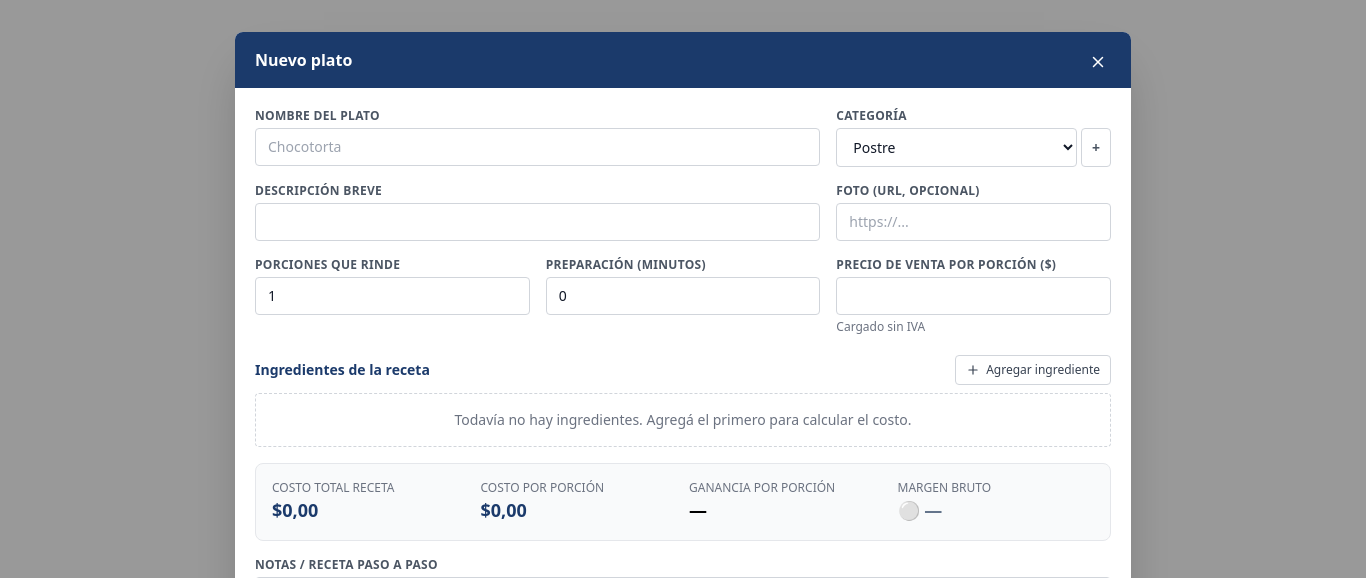
Scenario: ModalPlato › agregar un ingrediente a la receta actualiza el costo total en vivo
Click the button "Agregar ingrediente". click: point(1033, 370)
box: [955,355,1111,385]
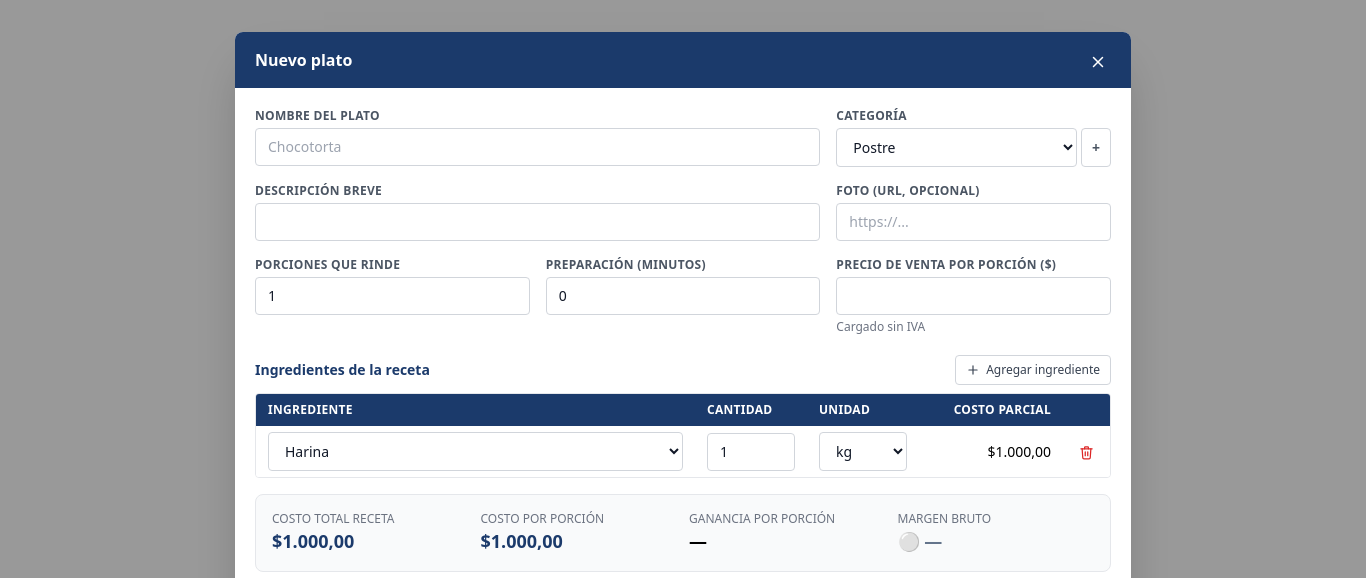
Expected: the text "$1.000,00" is shown, [987,442,1051,460]
